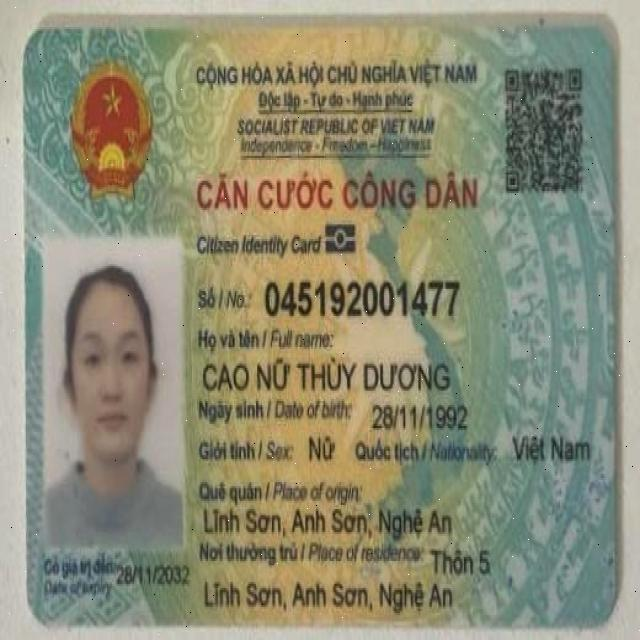current_place: (202, 574, 459, 616), (429, 539, 493, 579)
dob: (371, 398, 472, 440)
expire_date: (116, 560, 192, 593)
gender: (304, 425, 341, 464)
id: (262, 276, 462, 318)
name: (199, 352, 453, 396)
nationality: (508, 426, 596, 470)
origin_place: (202, 503, 455, 542)
qr: (498, 58, 592, 198)
